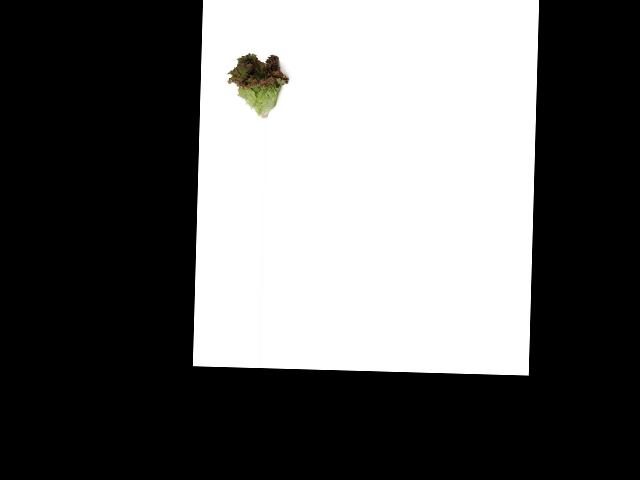lettuce: (223, 44, 295, 120)
